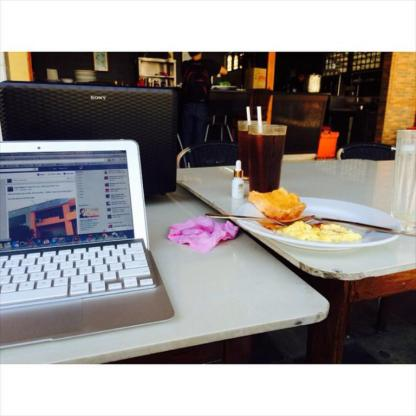board: (0, 135, 178, 349), (0, 80, 176, 195), (250, 124, 288, 191), (239, 122, 274, 179), (231, 158, 244, 199)
